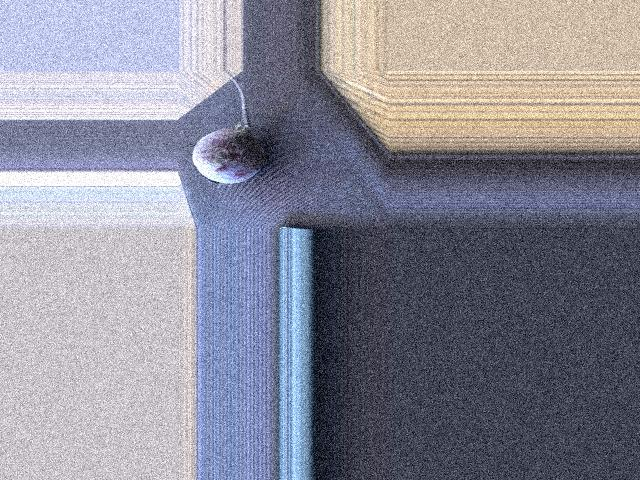beet: (193, 71, 265, 183)
